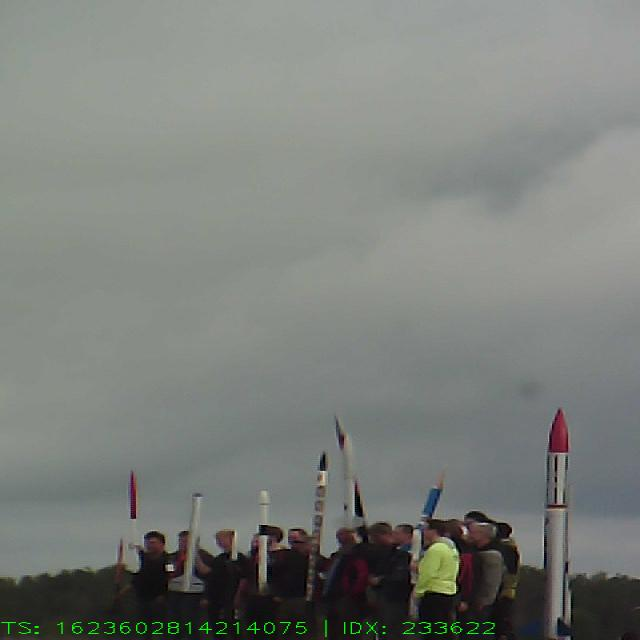Rocket: (541, 406, 575, 640), (334, 415, 369, 543), (302, 449, 330, 602), (166, 492, 206, 594), (404, 466, 447, 554), (340, 433, 365, 530), (124, 466, 144, 574), (254, 489, 270, 595), (106, 536, 127, 612), (411, 528, 425, 589), (230, 529, 239, 609)
